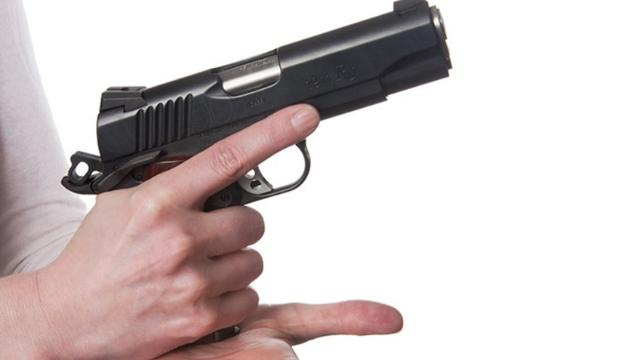handgun: (56, 0, 457, 354)
